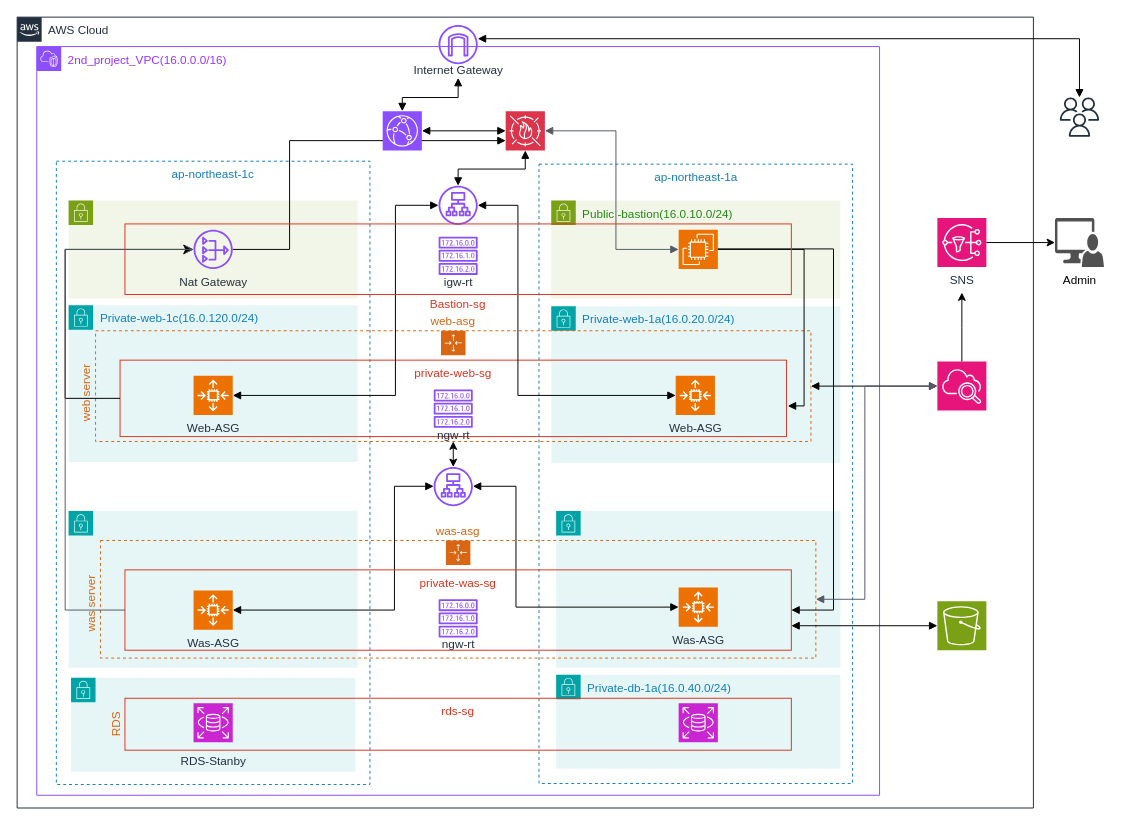
This 1121x825 diagram has some shape labels left out. The shapes that lost their labels are listed below. From the top down, each one's box as (x1, y1, x2, y2) in pixels, then its label:
(382, 110, 422, 150): Cloud Front
(505, 110, 545, 150): WAF
(1059, 97, 1099, 136): Users
(438, 185, 477, 224): 2ndproject-alb
(68, 199, 358, 298): Public-Nat(16.0.110.0/24)
(678, 229, 718, 269): Bastion Host
(936, 361, 986, 411): Cloud Watch
(433, 466, 472, 506): 2ndproject-ilb
(68, 510, 358, 668): Private-was-1c(16.0.130.0/24)
(555, 510, 840, 668): Private-was-1a(16.0.30.0/24)
(936, 600, 986, 650): S3
(70, 677, 355, 772): Private-db-1c(16.0.140.0/24)
(678, 702, 718, 742): RDS-Primary
